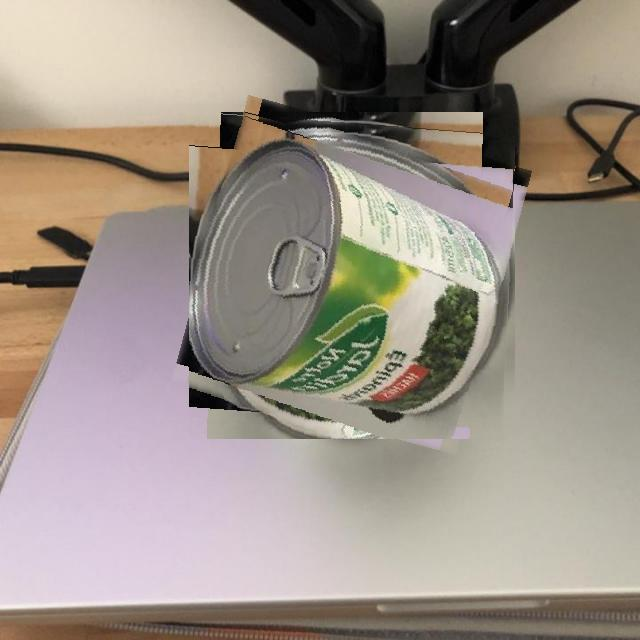recyclable: (189, 111, 516, 439)
